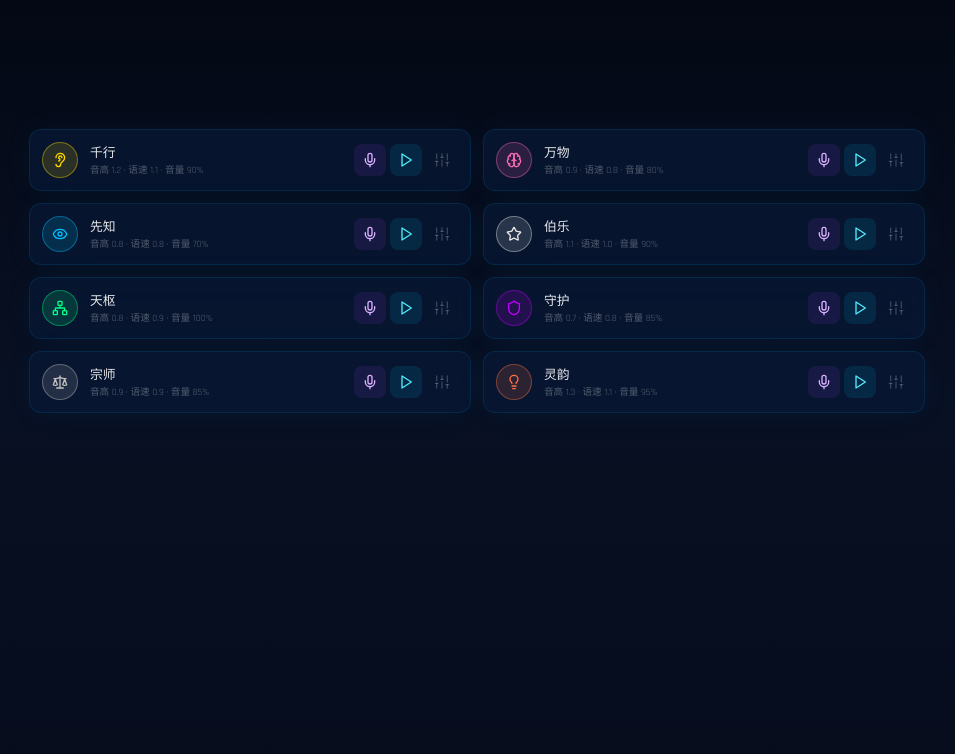
Scenario: ai-family/FamilyVoiceSystem › 历史对话持久化后重进应显示对话记录
Click the button titled "语音对话" next to "80". click: (824, 160)
box: [808, 144, 840, 176]
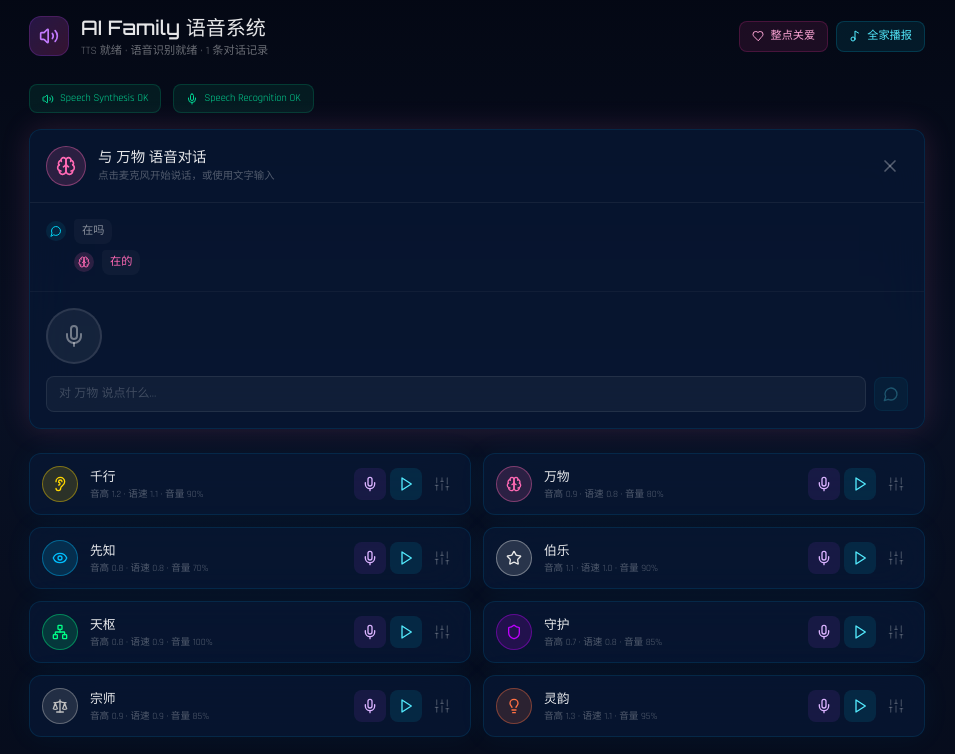
expect the text "在吗" is shown: met, box [74, 219, 112, 244]
expect the text "在的" is shown: met, box [102, 250, 140, 275]
